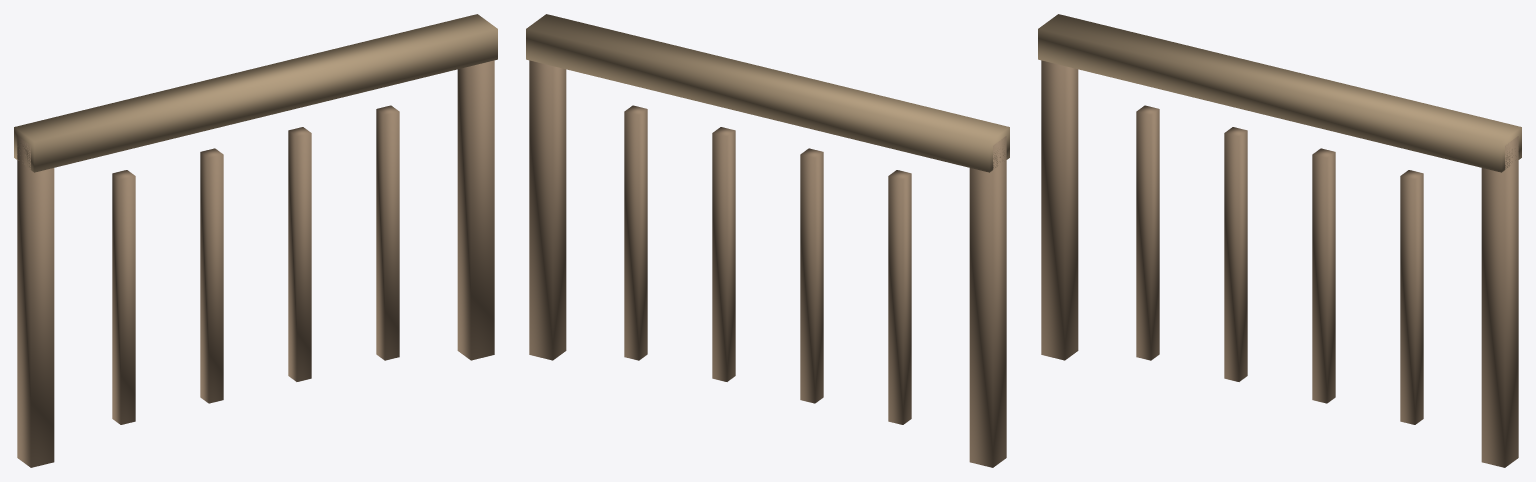
Rendered from court_rail.glb.
The picture shows the model from 3 angles, left to right: view 1: azimuth 30°, elevation 25°; view 2: azimuth 150°, elevation 25°; view 3: azimuth 330°, elevation 25°; orthographic projection.
Visible parts, largest first — view 1: world; view 2: world; view 3: world.
Part boxes in pixels (x1,y1,x2,y2): world: (14, 14, 497, 467); world: (526, 14, 1009, 467); world: (1038, 14, 1521, 467).
Size of the model in its own units: 1.58 by 1.07 by 0.12.
